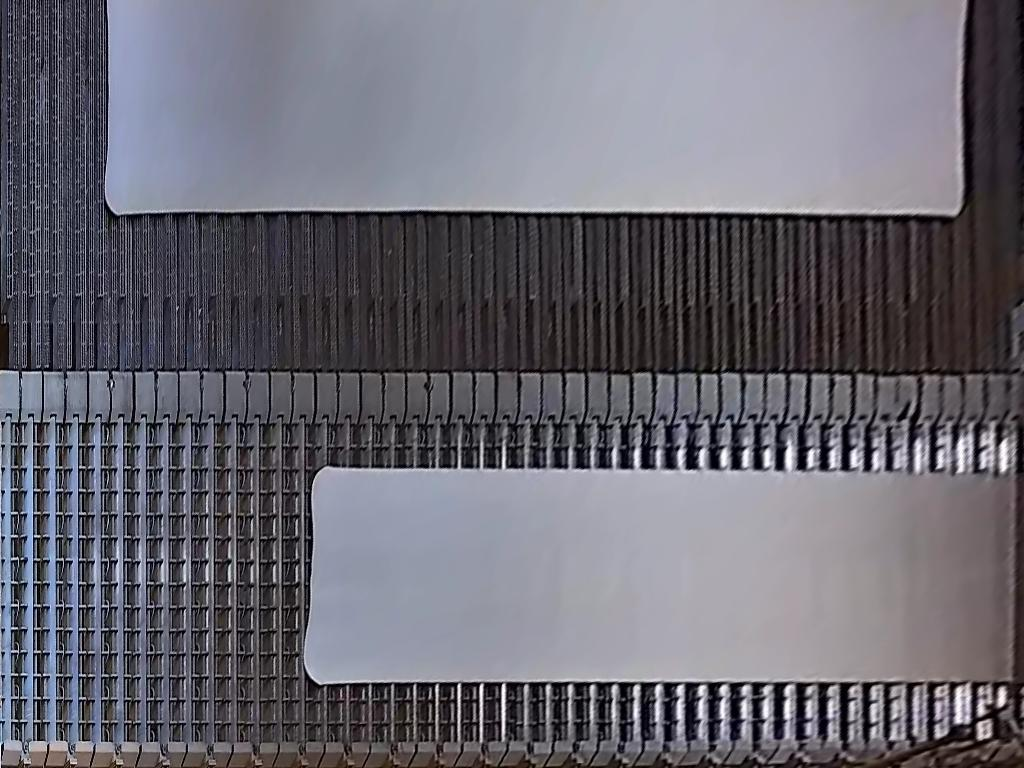steel: (102, 1, 968, 218), (301, 466, 1023, 685)
